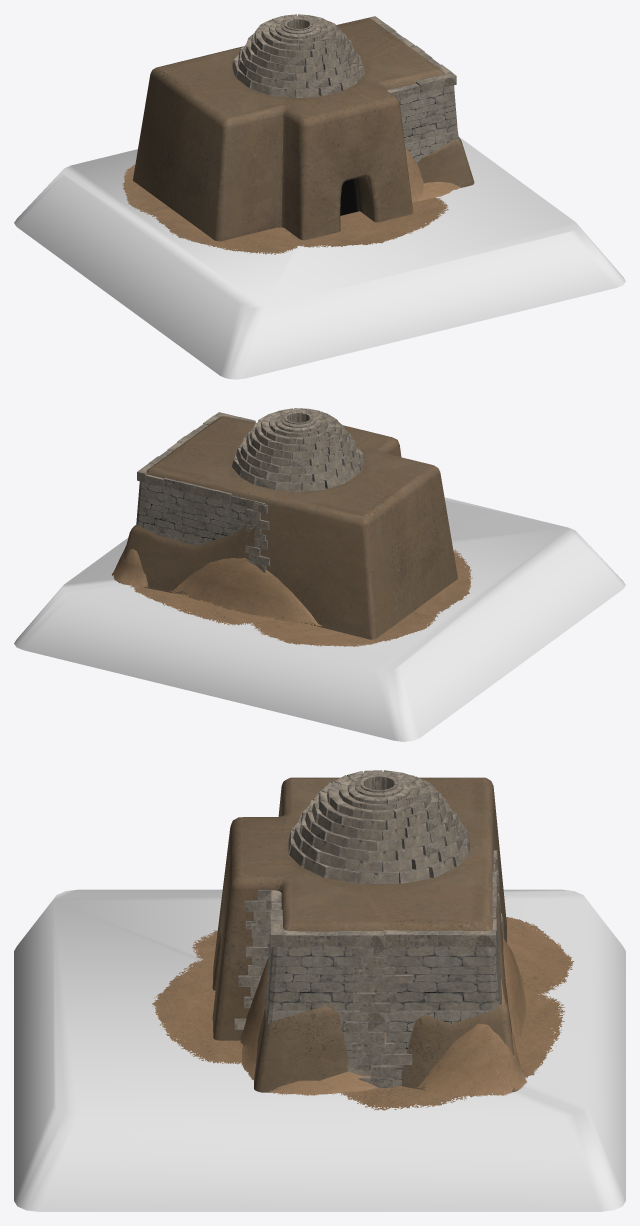
File: Limestone Burner Construction Stage 3.fbx
The picture shows the model from 3 angles, top to bottom: view 1: azimuth 30°, elevation 25°; view 2: azimuth 150°, elevation 25°; view 3: azimuth 270°, elevation 25°; orthographic projection. The views are drawn at different scales.
Visible parts, largest first — view 1: Limestone_Burner_Base_Construction_S3, Limestone_Burner_Construction_S3; view 2: Limestone_Burner_Construction_S3, Limestone_Burner_Base_Construction_S3; view 3: Limestone_Burner_Base_Construction_S3, Limestone_Burner_Construction_S3.
Part boxes in pixels (bbox=[...]): Limestone_Burner_Base_Construction_S3: bbox=[14, 137, 625, 379]; Limestone_Burner_Construction_S3: bbox=[122, 14, 474, 254]; Limestone_Burner_Construction_S3: bbox=[111, 408, 472, 646]; Limestone_Burner_Base_Construction_S3: bbox=[14, 497, 625, 741]; Limestone_Burner_Base_Construction_S3: bbox=[14, 889, 625, 1211]; Limestone_Burner_Construction_S3: bbox=[152, 770, 574, 1110].
Size of the model in its own units: 796 by 401 by 758.
